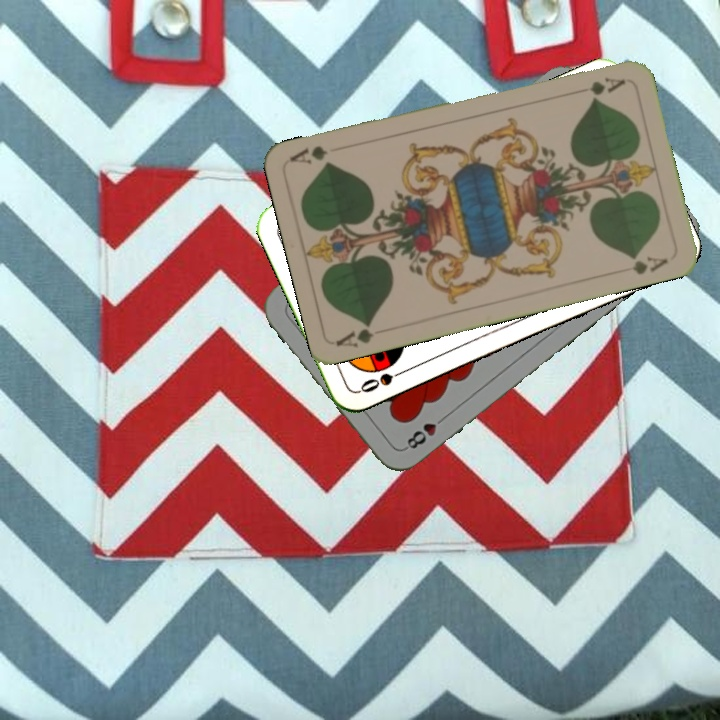GA: (570, 73, 628, 98), (333, 318, 376, 350)
H8: (400, 410, 450, 453)
SO: (355, 364, 411, 396)
